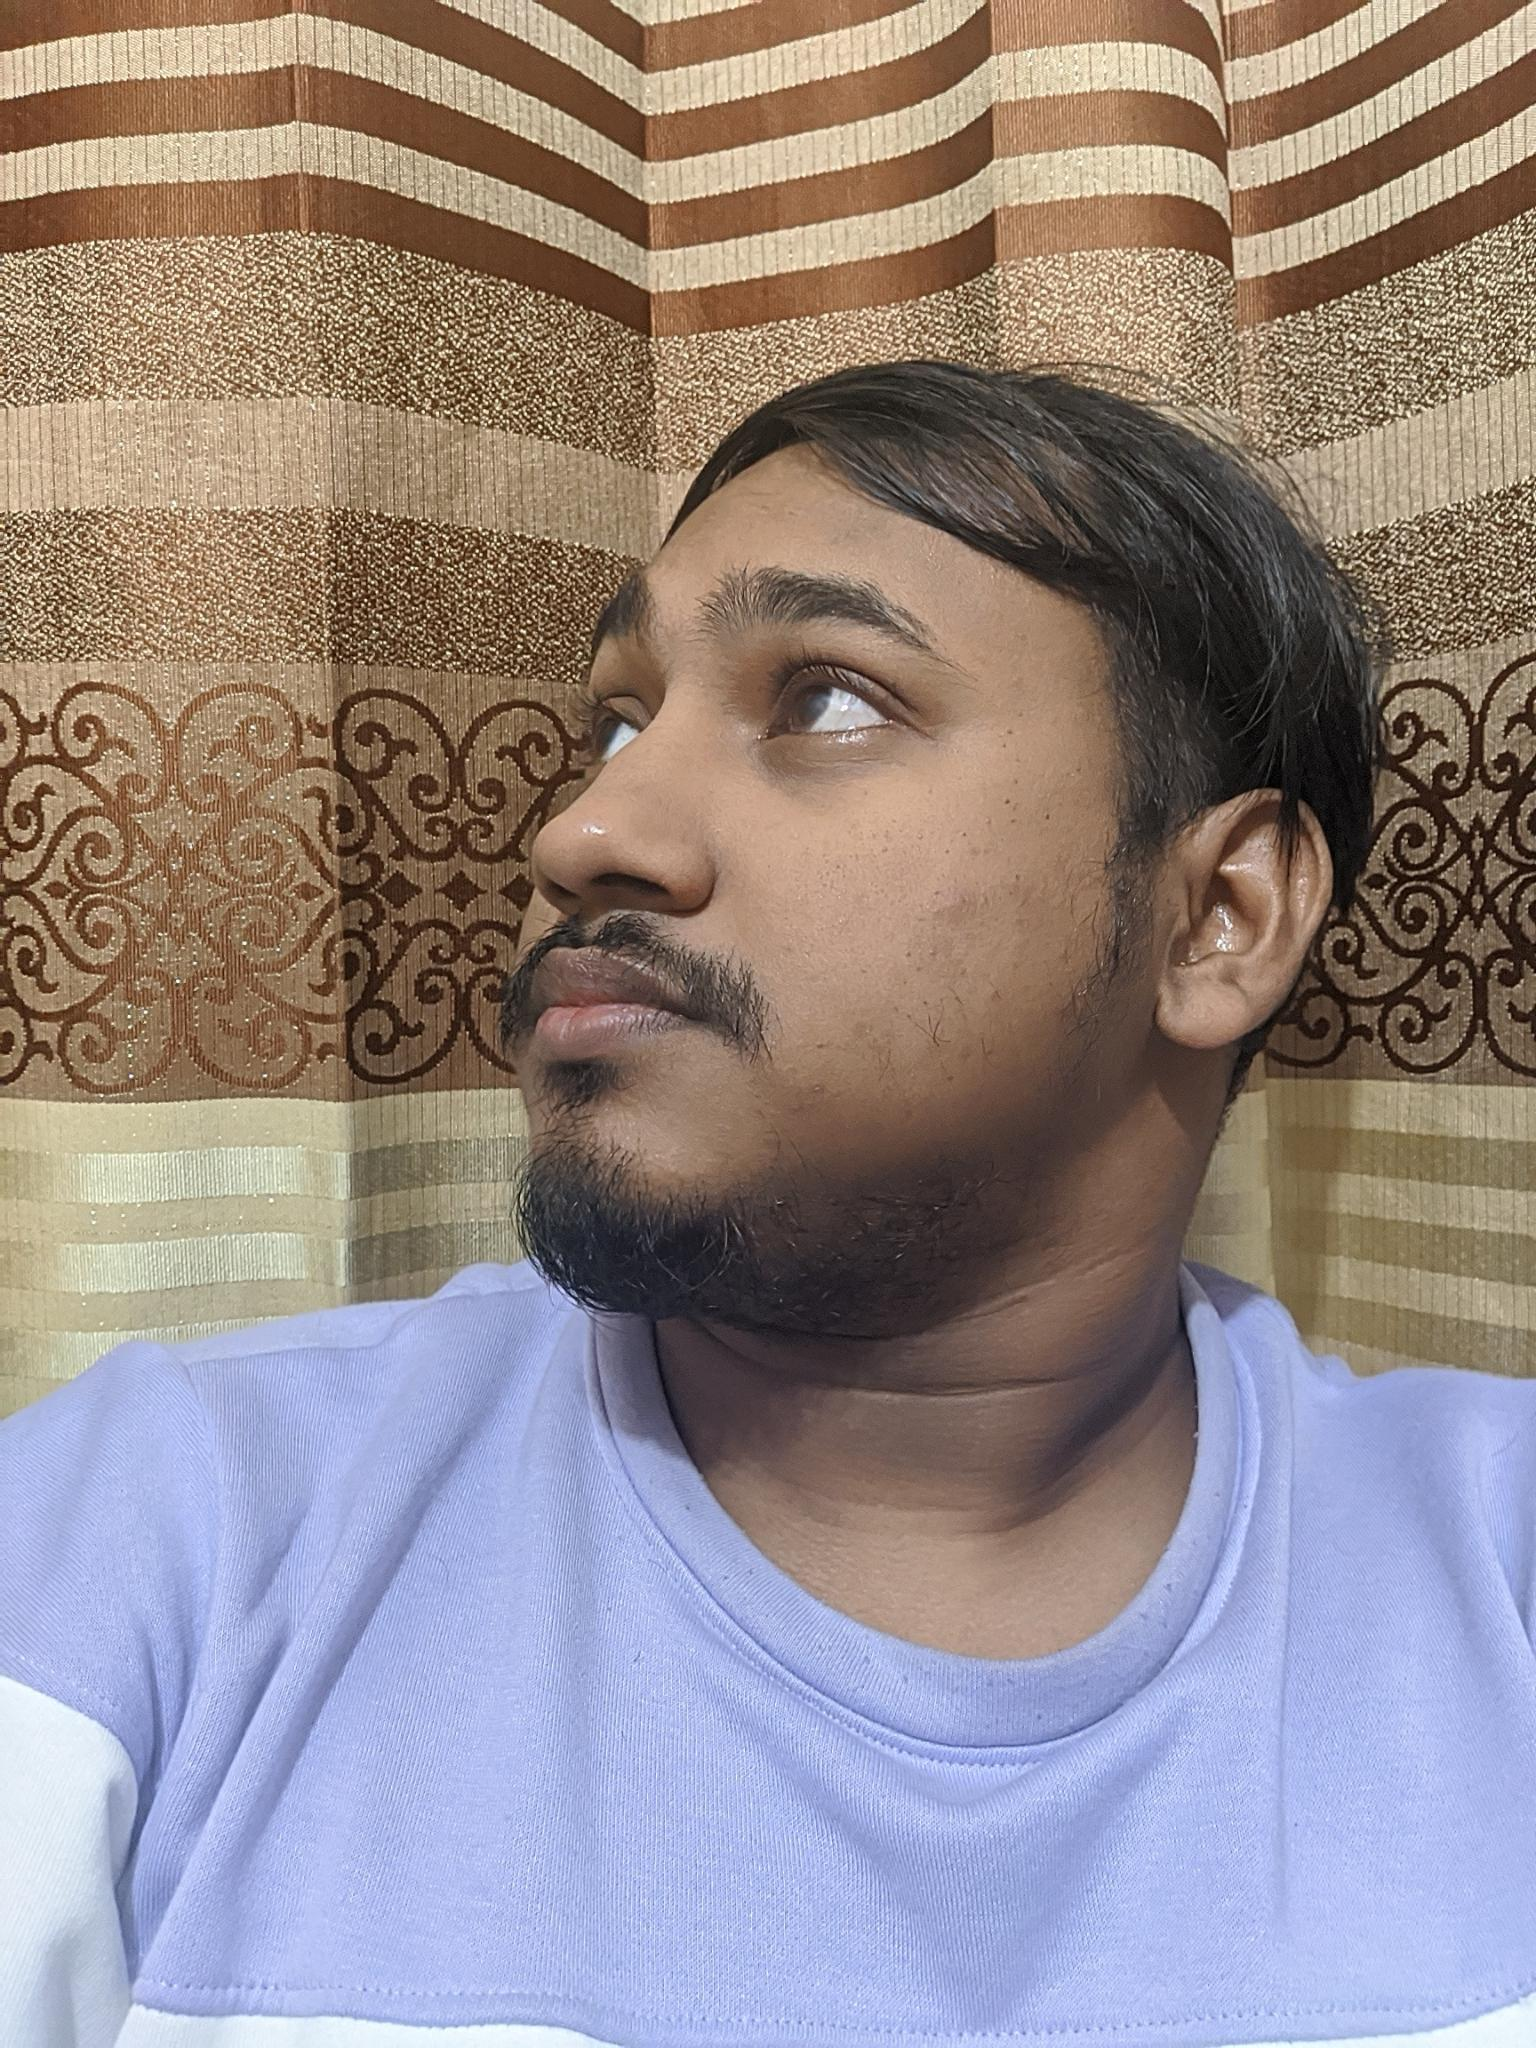Neutral: (384, 534, 1058, 1326)
